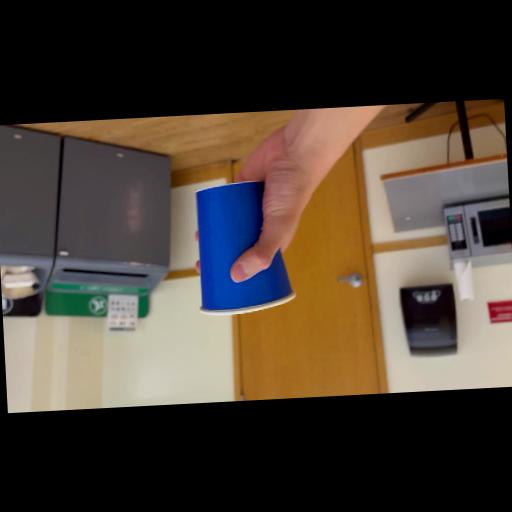lp_paper_cup: (182, 166, 311, 322)
